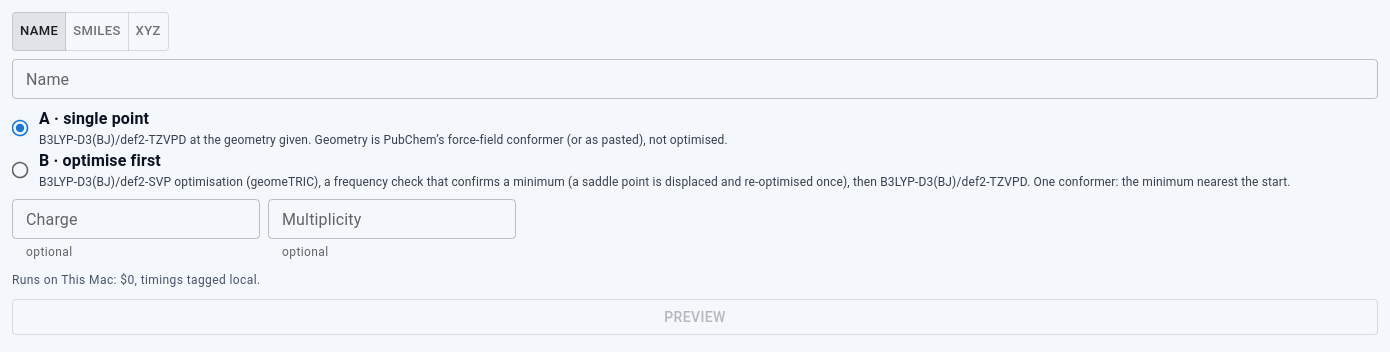
Test: previewing › checks charge and multiplicity before asking the server
Type "water" into the field named "molecule (Name)". click: (695, 79)
box: [12, 59, 1378, 99]
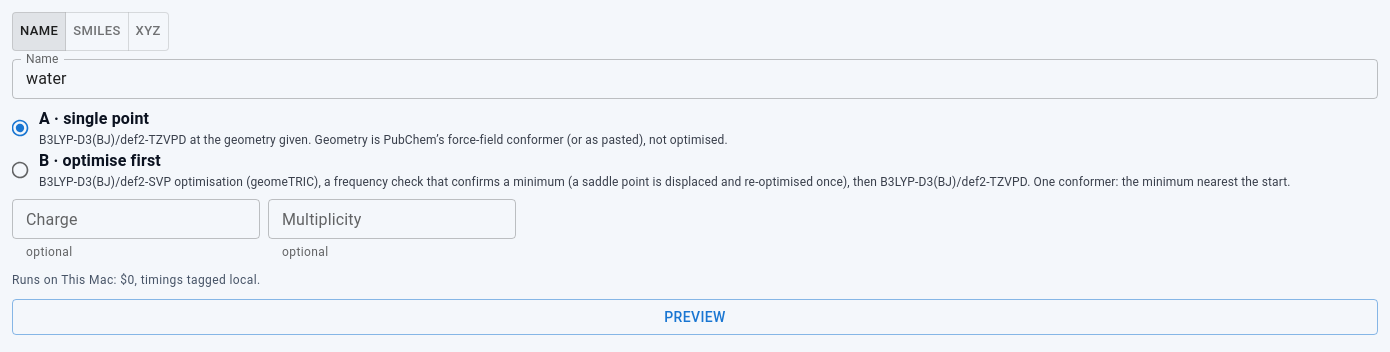
Type "1.5" into the field labelled "Charge". click: (136, 219)
box: [12, 199, 260, 239]
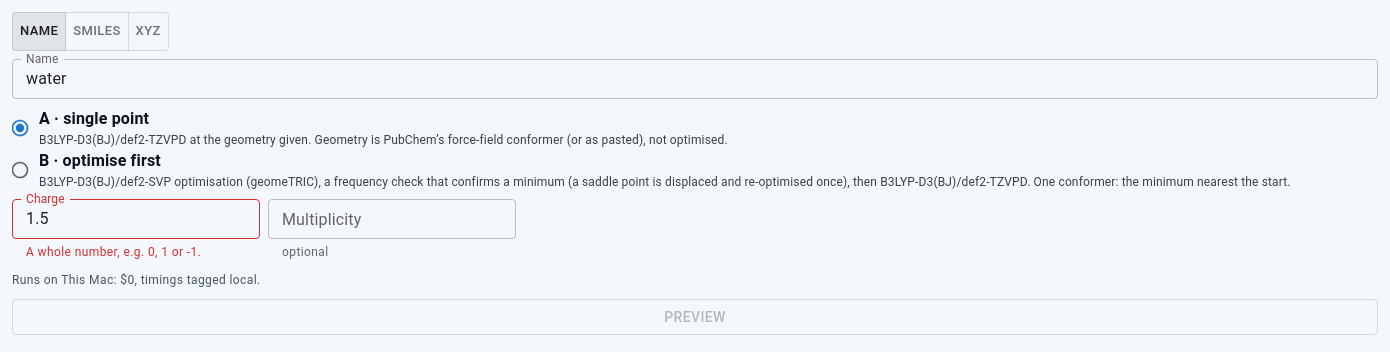
Expected: the text "A whole number, e.g. 0, 1 or -1." is shown, [26, 245, 201, 259]
Expected: the button "Preview" is disabled, [12, 299, 1378, 335]
